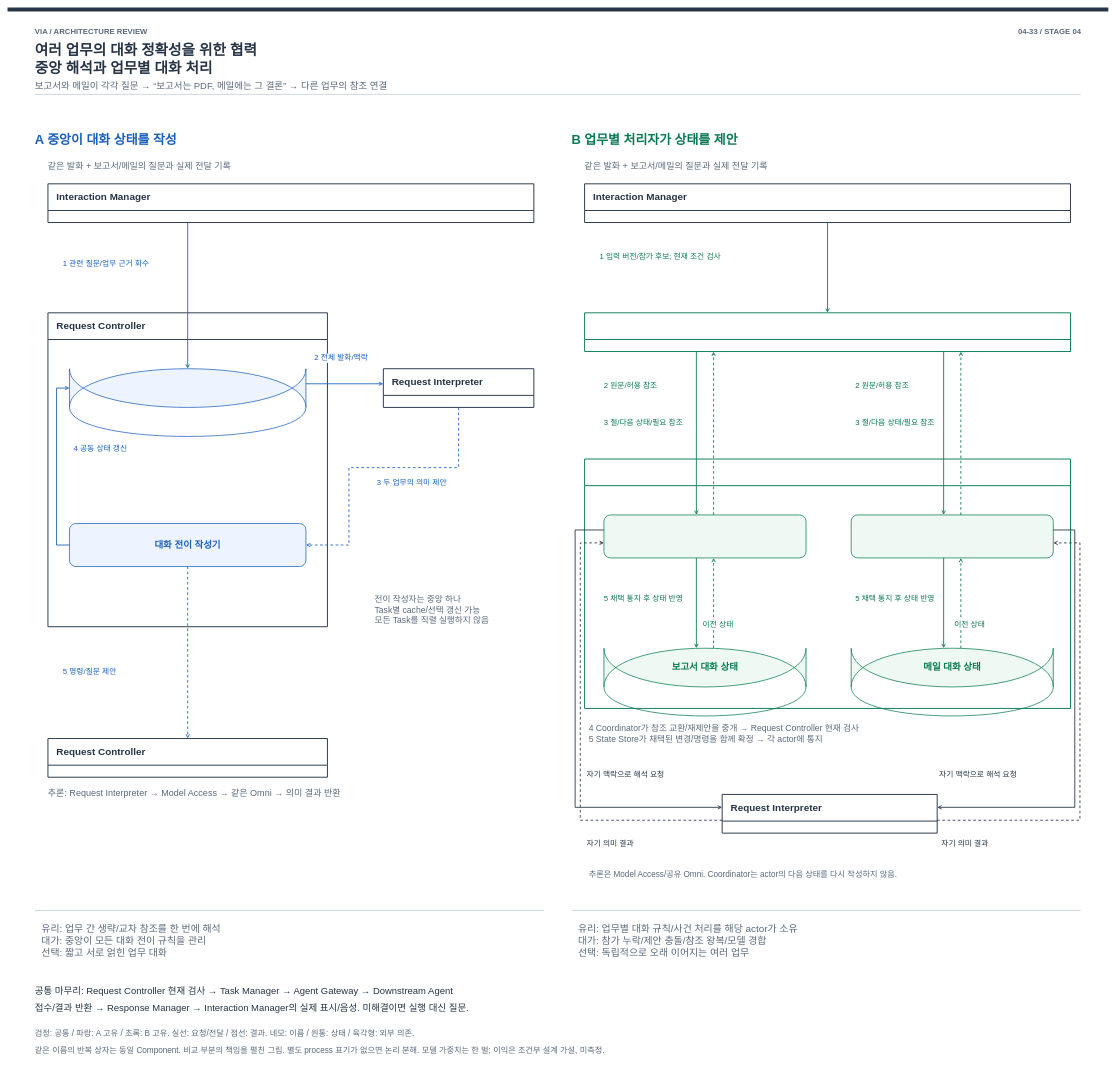
This 1115x1065 diagram has some shape labels left out. Here are the shapes that lost their labels. From the top down, the box of each, then its label:
(584, 312, 1071, 352): Dialogue Coordinator
(69, 368, 306, 408): 공동 대화 상태
(603, 514, 806, 558): 보고서 대화 actor
(851, 514, 1053, 558): 메일 대화 actor
(584, 458, 1071, 709): Task Dialogue Runtime
